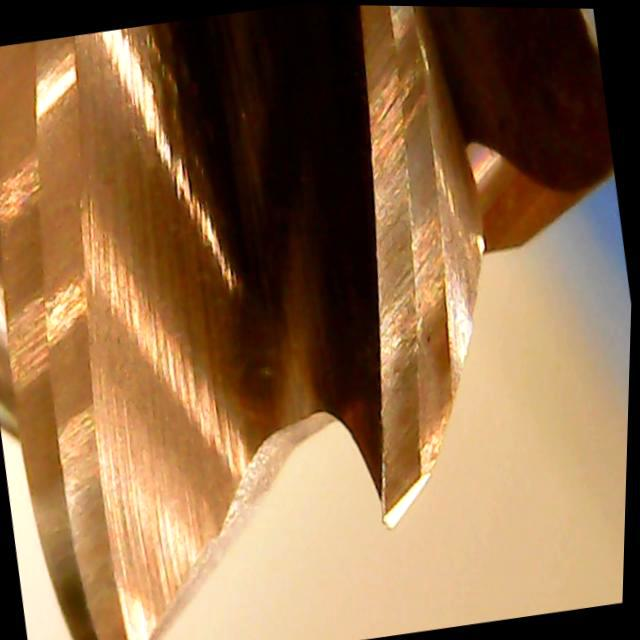Tool-wear-class-0: (328, 236, 506, 539)
